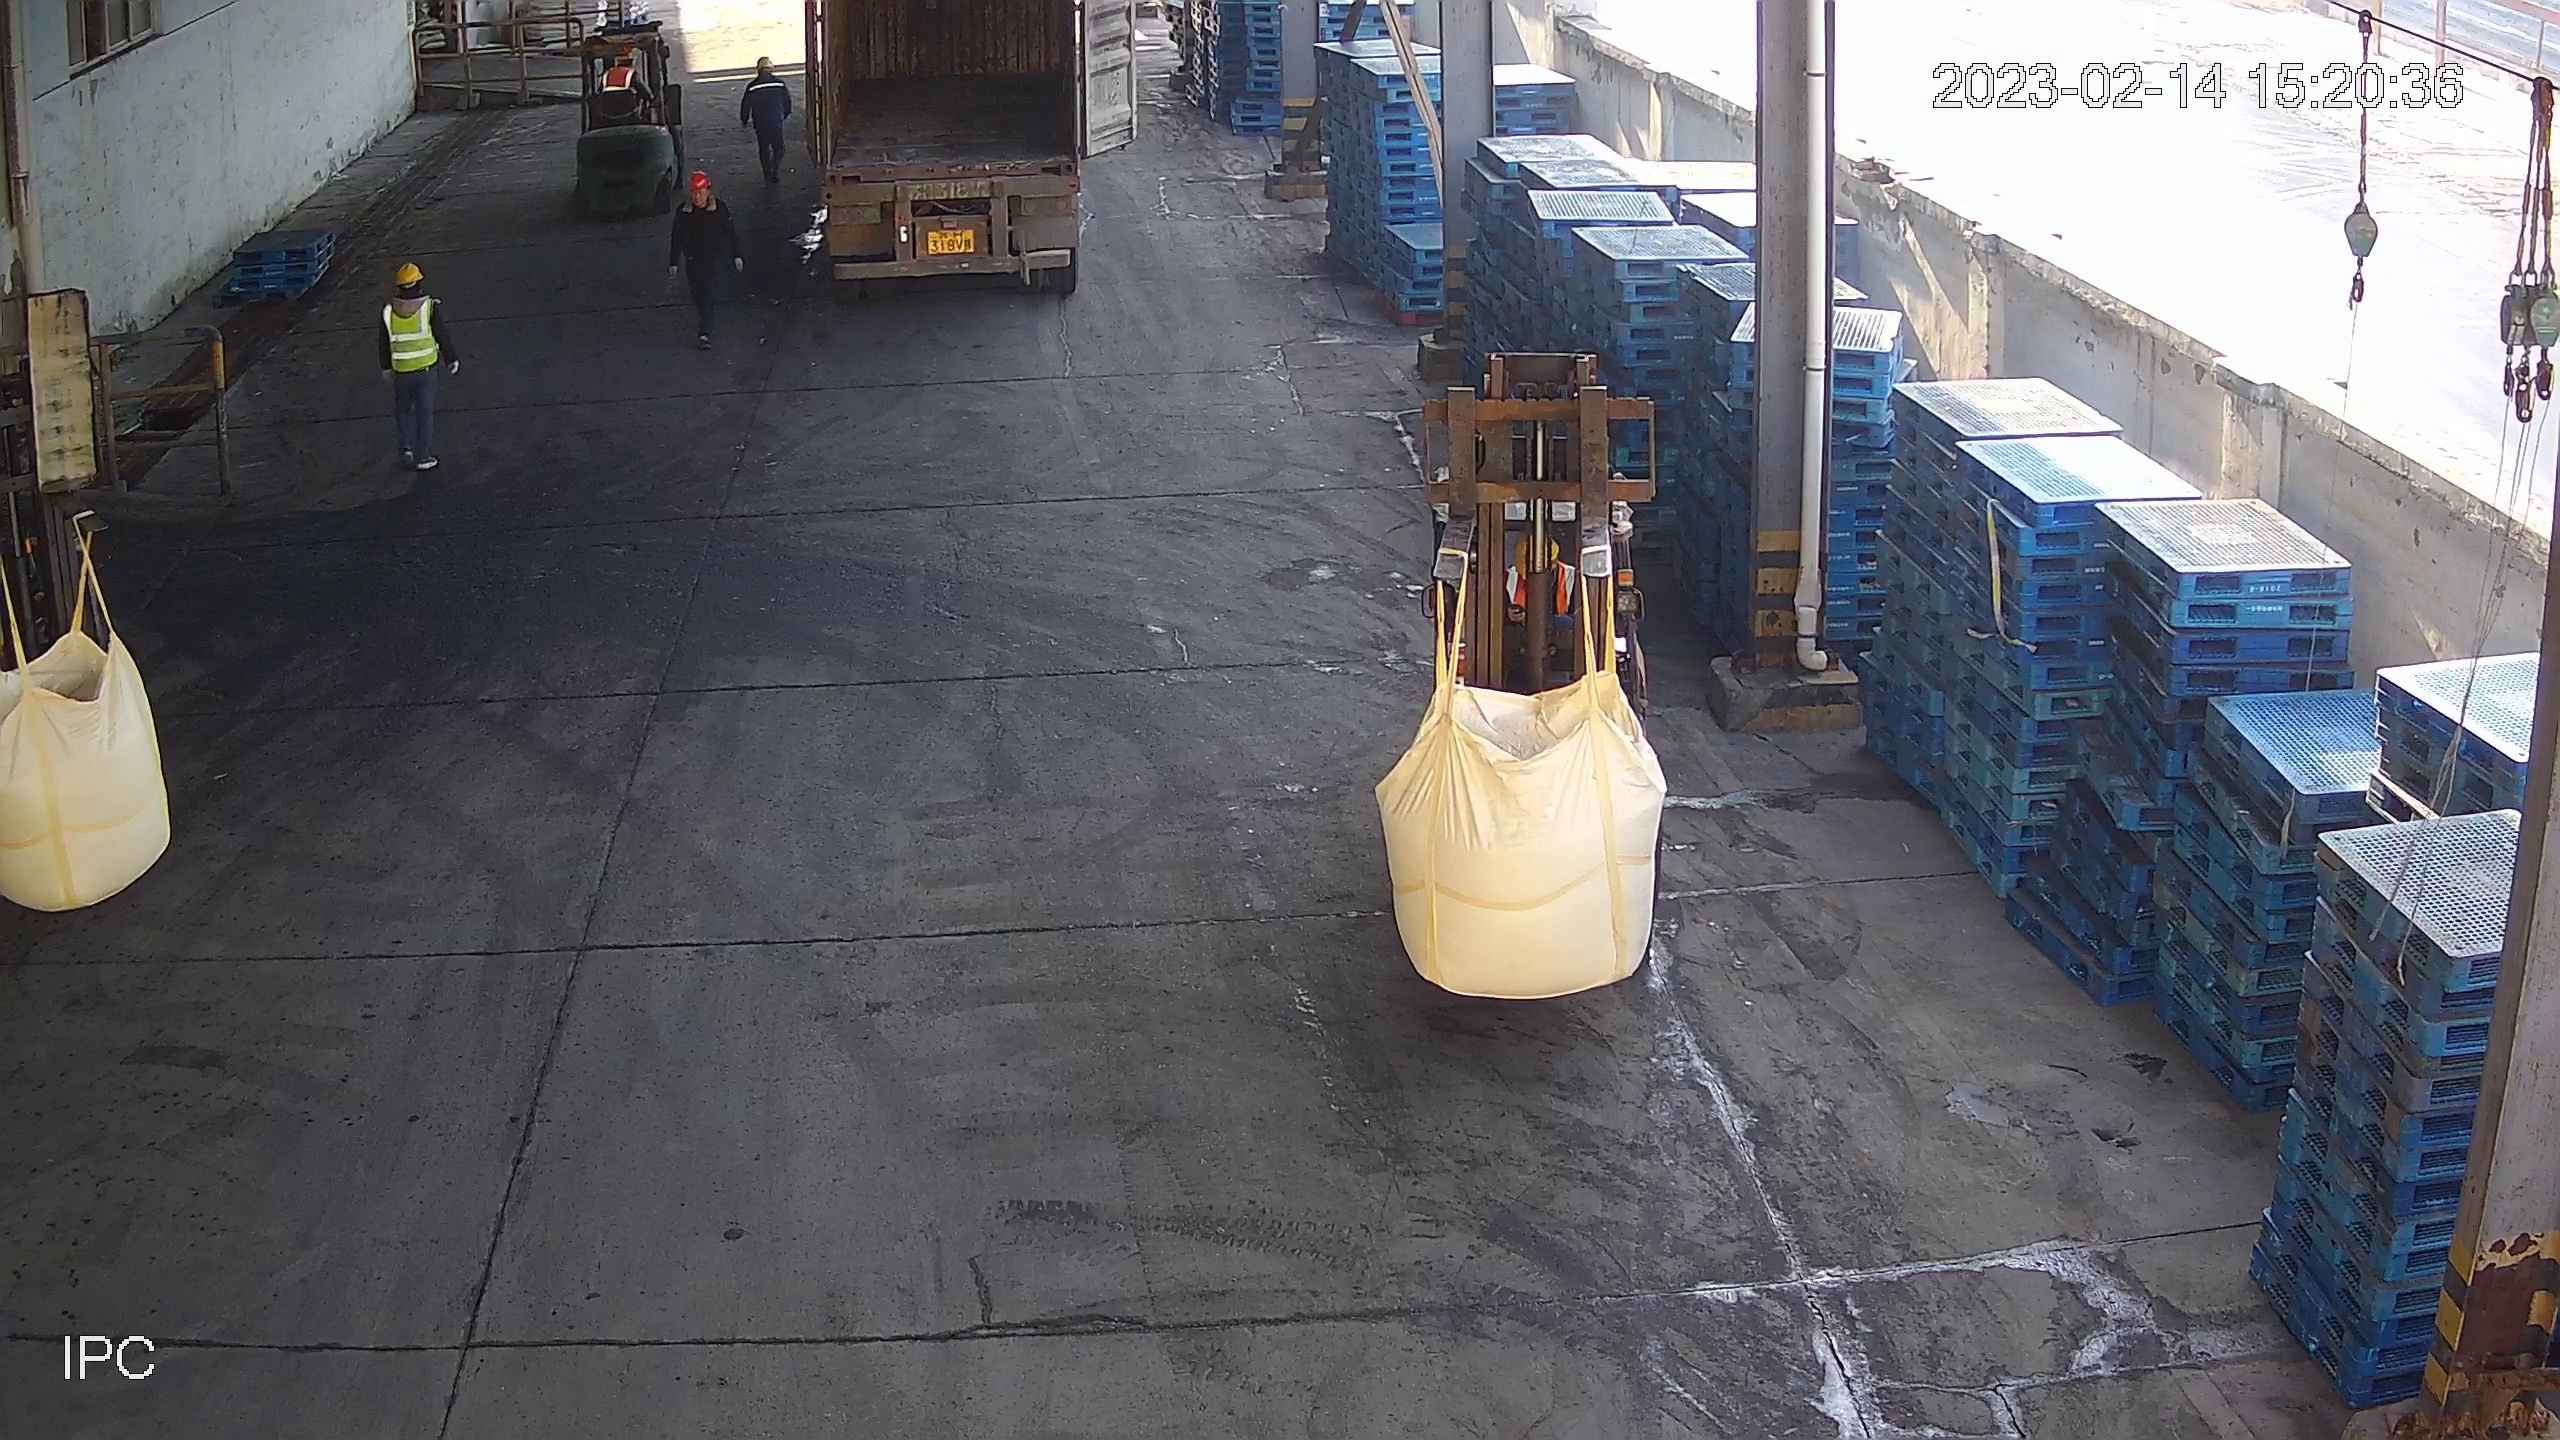head: (382, 261, 441, 328), (671, 170, 731, 216), (739, 55, 796, 93)
helmet: (393, 262, 424, 287), (686, 171, 712, 191), (747, 57, 776, 69)
people: (377, 260, 463, 476), (666, 170, 746, 352), (739, 56, 795, 189)
